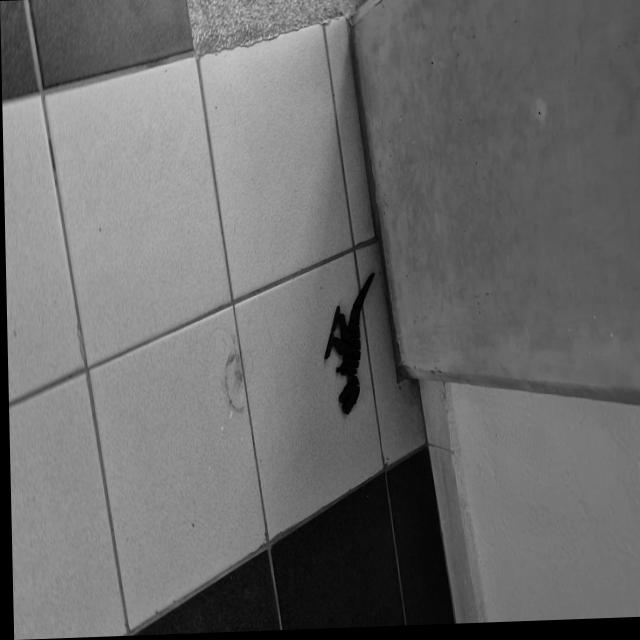dino: (322, 271, 379, 416)
